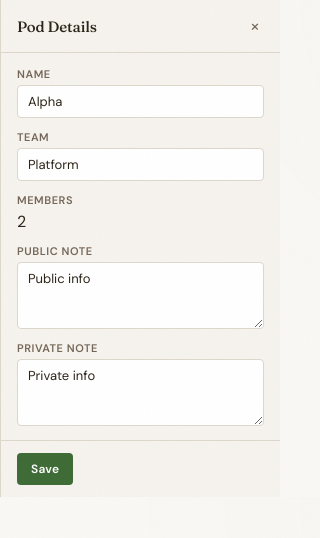
Test: PodSidebar — branch coverage › non-Error rejection › shows "Save failed" when updatePod rejects with a string
Step 1. Replace the text in the field showing "Alpha" below "Name" with "Renamed" → (140, 102), box [17,85,264,118]
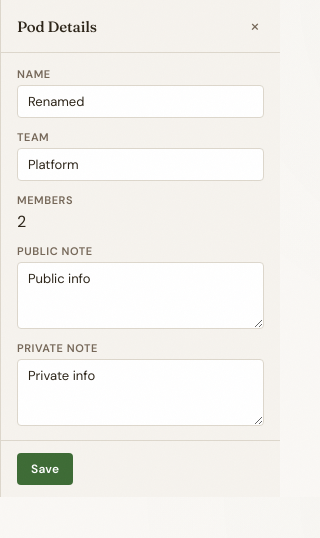
Step 2. Click the button "Save" → (45, 469), box [17,453,73,485]
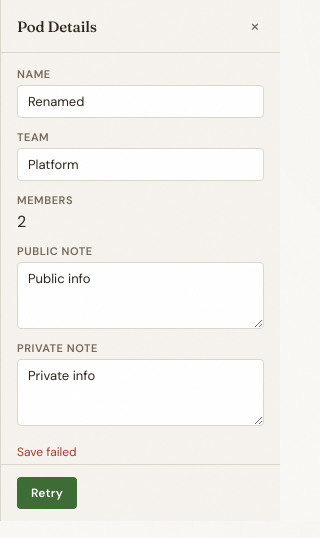
expect the text "Save failed" is shown: met, box [17,444,77,460]
expect the button "Retry" is shown: met, box [17,477,77,509]
